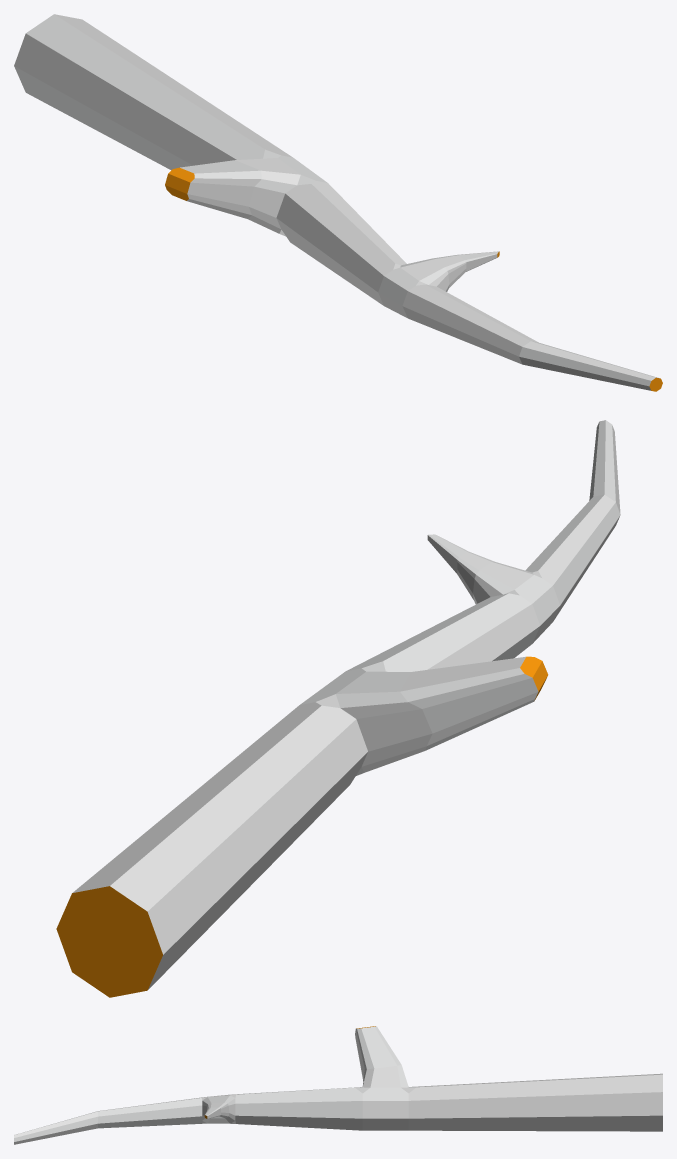
Rendered from Stick_27.fbx.
The picture shows the model from 3 angles, top to bottom: view 1: azimuth 30°, elevation 25°; view 2: azimuth 150°, elevation 25°; view 3: azimuth 270°, elevation 25°; orthographic projection. The views are drawn at different scales.
Parts seen in each view (by area): view 1: Circle.217; view 2: Circle.217; view 3: Circle.217.
Part boxes in pixels (box(x1,y1,x2,y2)): Circle.217: box(14, 14, 662, 391); Circle.217: box(56, 420, 620, 997); Circle.217: box(14, 1026, 662, 1144).
Size of the model in its own units: 9.65 by 4.52 by 35.85.
